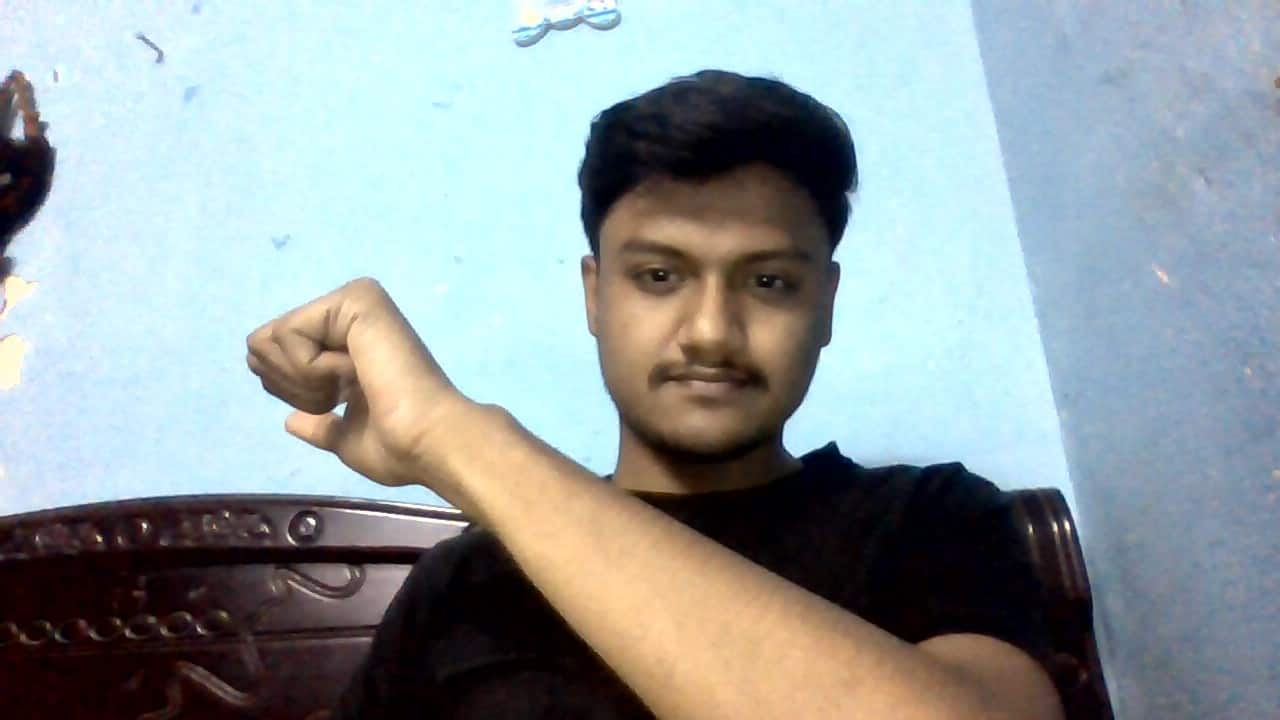hand: (242, 273, 469, 491)
